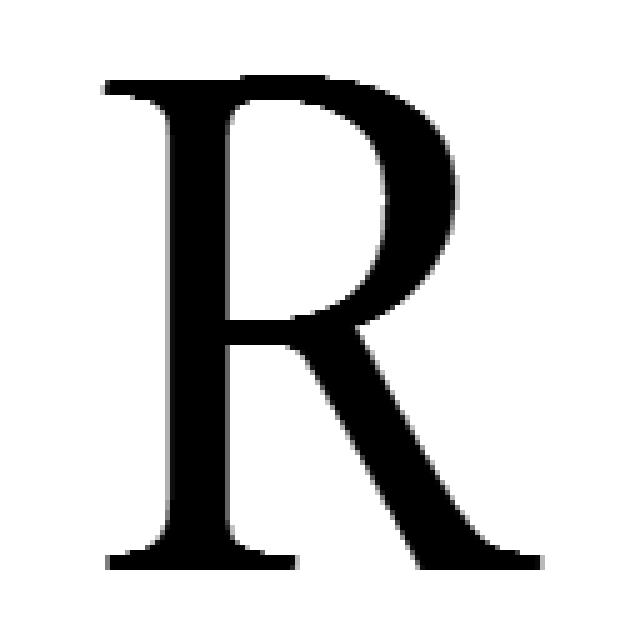R: (90, 65, 545, 575)
